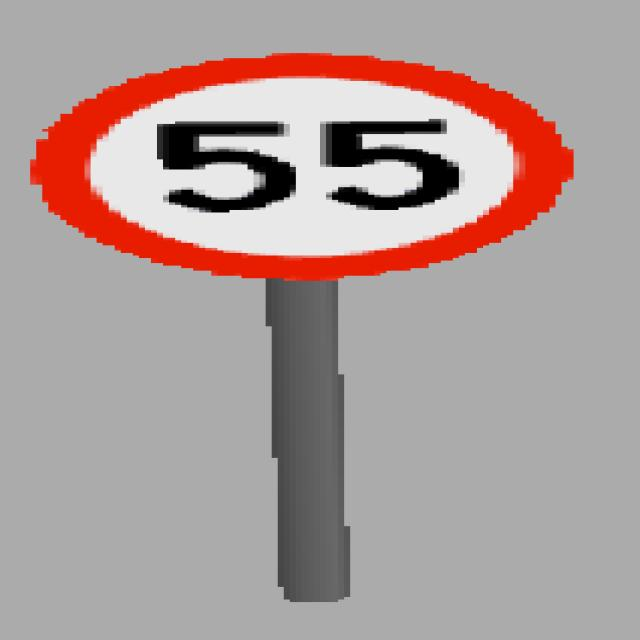Sign: (19, 61, 640, 640)
